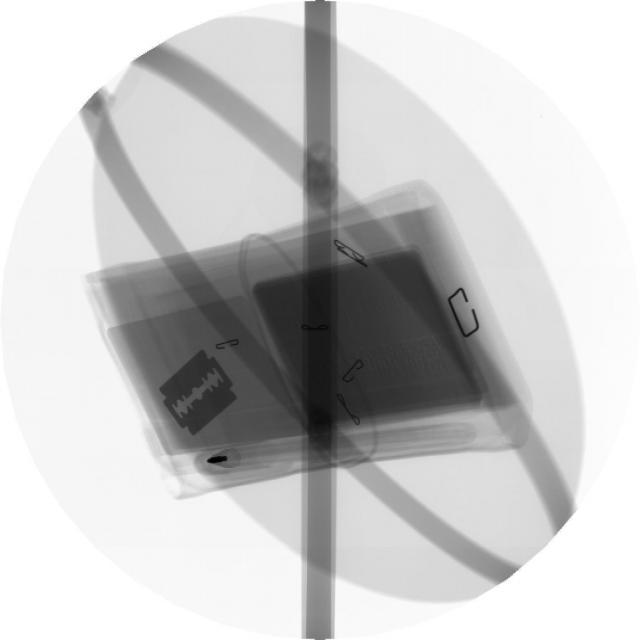BLADE: (156, 344, 244, 443)
